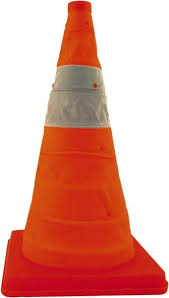cones: (2, 1, 169, 298)
